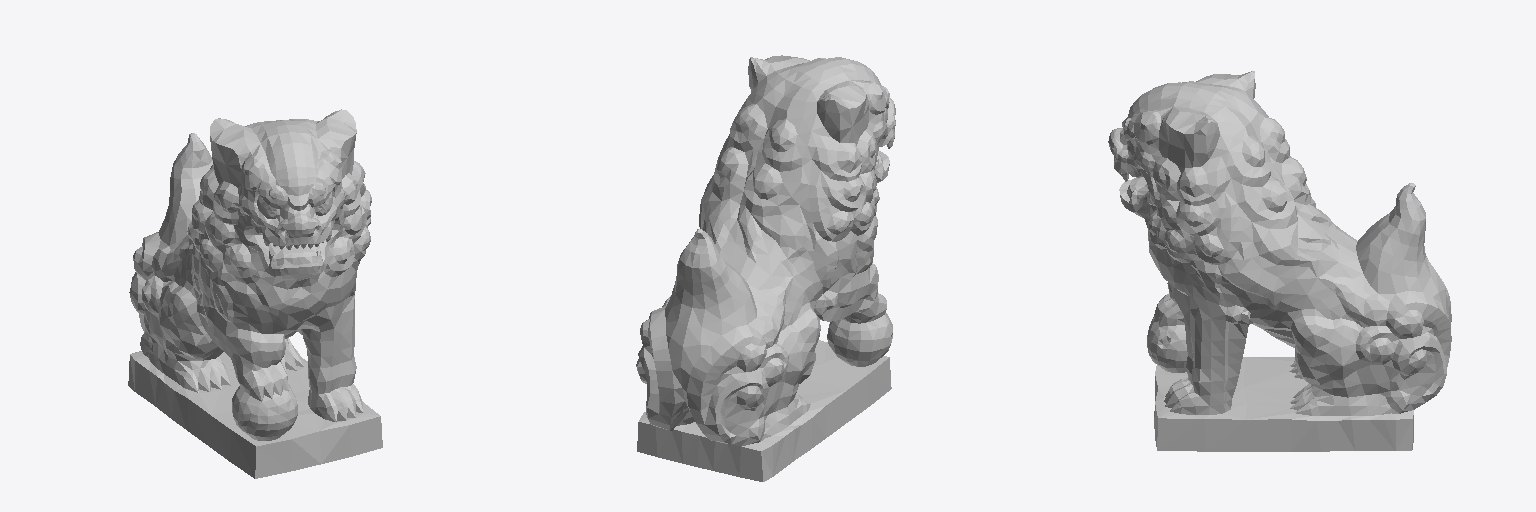
Rendered from Lio_big_mirrow.obj.
The picture shows the model from 3 angles: view 1: azimuth 30°, elevation 25°; view 2: azimuth 150°, elevation 25°; view 3: azimuth 270°, elevation 25°; orthographic projection.
Parts seen in each view (by area): view 1: SM_LionBigA_mirror; view 2: SM_LionBigA_mirror; view 3: SM_LionBigA_mirror.
Part boxes in pixels (left/top/right/bottom): SM_LionBigA_mirror: left=128, top=109, right=382, bottom=478; SM_LionBigA_mirror: left=636, top=55, right=895, bottom=481; SM_LionBigA_mirror: left=1108, top=71, right=1451, bottom=451.
Size of the model in its own units: 197 by 389 by 371.